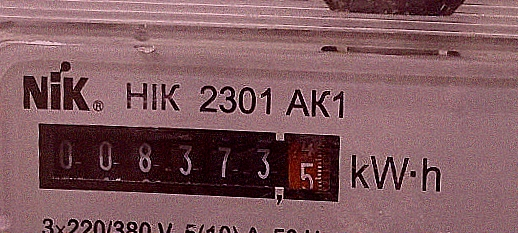0: (54, 135, 76, 172), (94, 136, 115, 173)
3: (251, 144, 275, 182), (173, 140, 196, 178)
4: (297, 138, 316, 159)
5: (297, 159, 317, 190)
7: (213, 141, 233, 181)
8: (133, 138, 156, 175)
screen: (29, 113, 349, 215)
